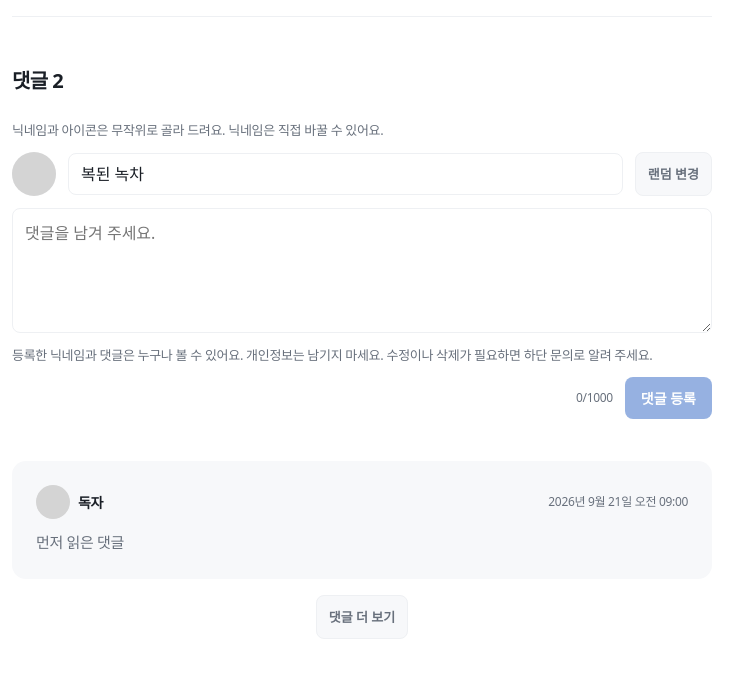
Scenario: CommentsSection pending requests › announces appended comments without moving focus or replacing existing comments
The image size is (729, 698).
What coordinates should you click on to do the following:
click the button "댓글 더 보기"
I would click on:
 (362, 617)
Its box is [316,595,408,639].
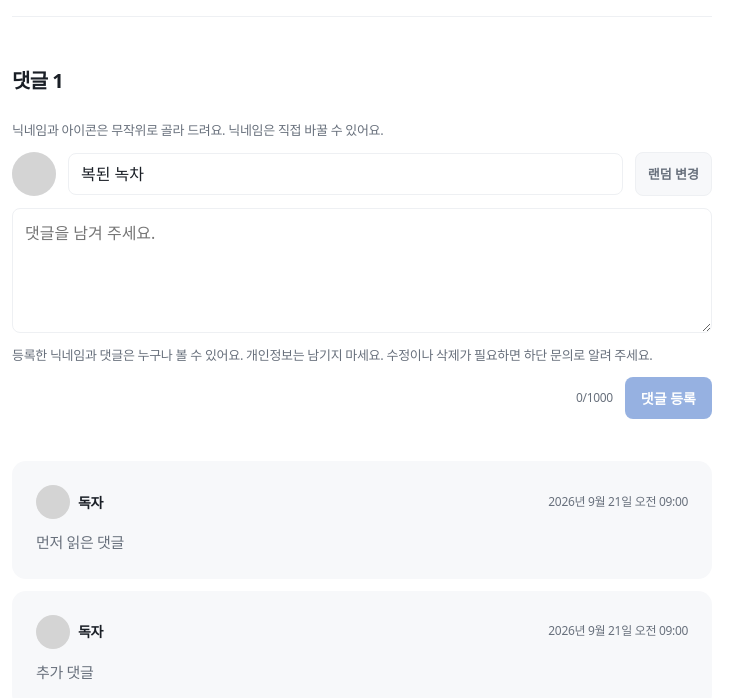
expect the text "먼저 읽은 댓글" is shown: met, box [36,532,124,552]
expect the text "추가 댓글" is shown: met, box [36,662,94,682]
